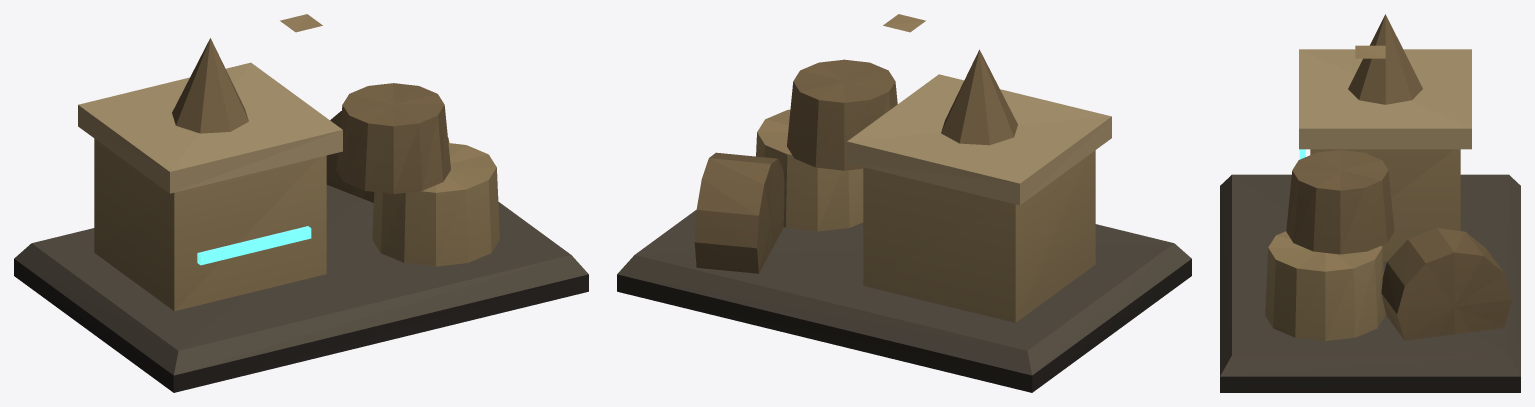
Rendered from temple-rubble-drums.glb.
3 renders of one model, left to right at view 1: azimuth 30°, elevation 25°; view 2: azimuth 150°, elevation 25°; view 3: azimuth 270°, elevation 25°, orthographic. The views are drawn at different scales.
Size of the model in its own units: 3 by 1.8 by 2.
